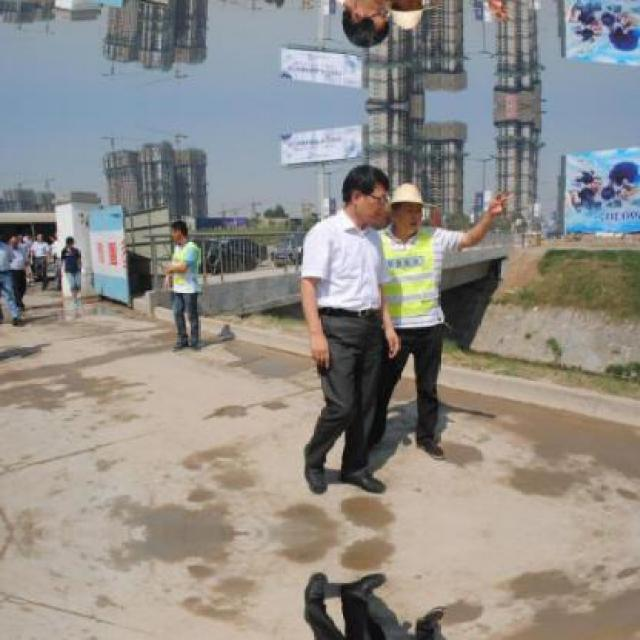Reflective-Jacket: (371, 224, 460, 338)
Safety-Helmet: (383, 176, 432, 214)
